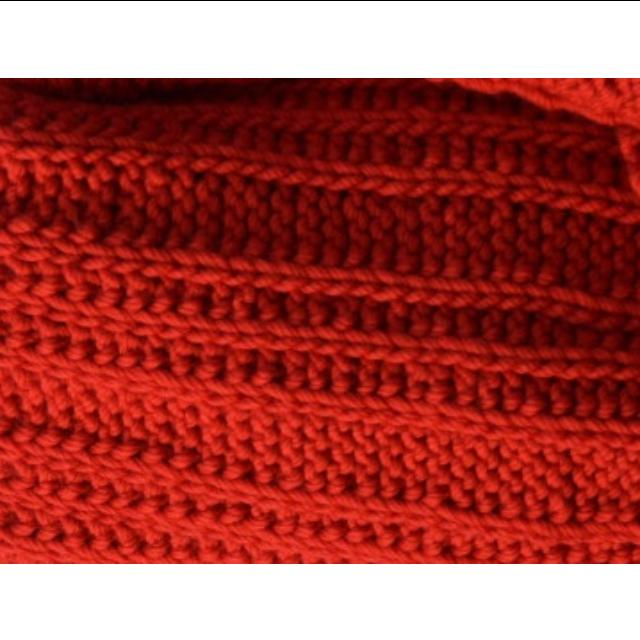wool: (0, 77, 640, 563)
